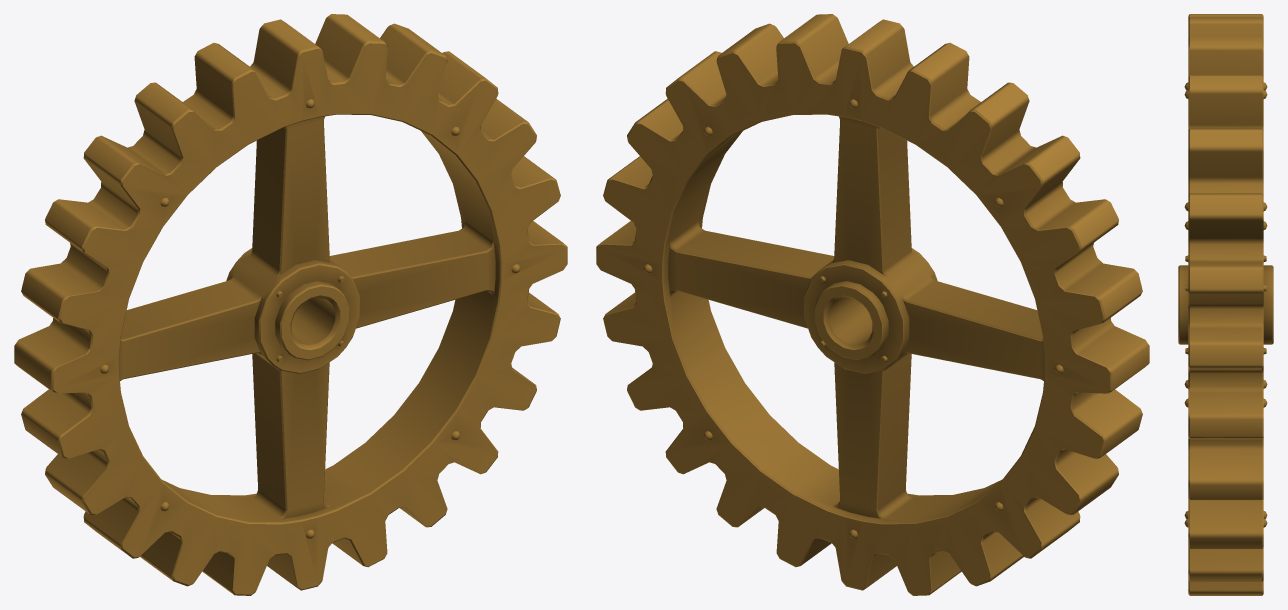
The model's file is gear_spur_24_m1.glb.
The picture shows the model from 3 angles, left to right: view 1: azimuth 30°, elevation 25°; view 2: azimuth 150°, elevation 25°; view 3: azimuth 270°, elevation 25°; orthographic projection. The views are drawn at different scales.
Visible parts, largest first — view 1: GearSpur24_M1; view 2: GearSpur24_M1; view 3: GearSpur24_M1.
Part boxes in pixels (bbox=[...]): GearSpur24_M1: bbox=[14, 14, 567, 595]; GearSpur24_M1: bbox=[596, 14, 1149, 595]; GearSpur24_M1: bbox=[1178, 14, 1273, 595].
Size of the model in its own units: 0.0929 by 0.0929 by 0.0152.
